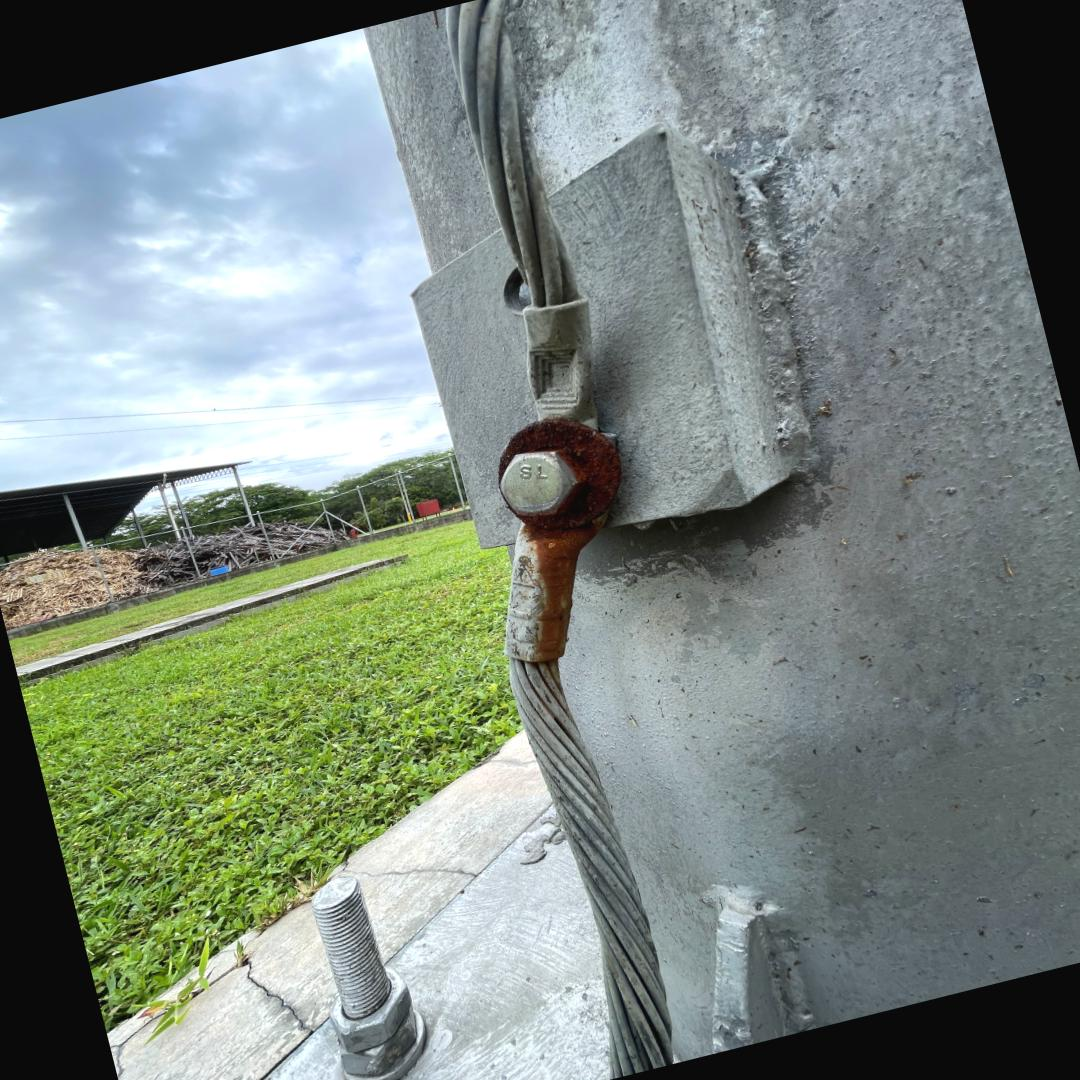Metal: (364, 0, 1080, 1079)
Metal corroido: (494, 417, 623, 669)
Tornillo sin corrosion: (501, 451, 578, 512)
